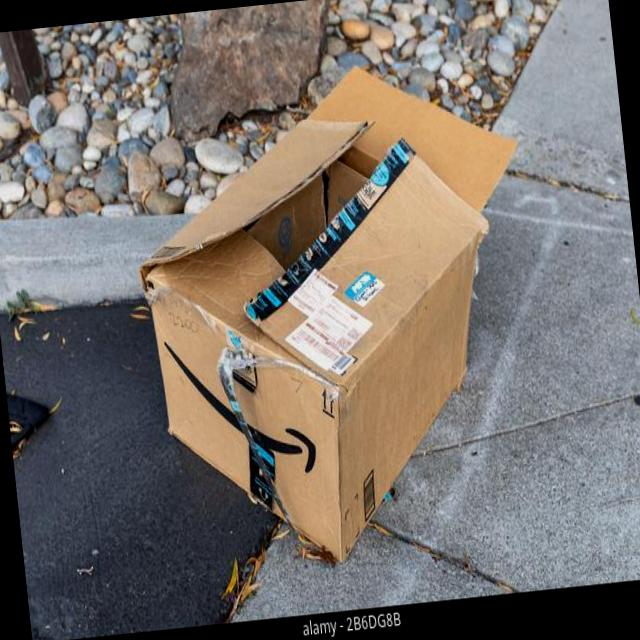Garbage: (114, 41, 568, 578)
